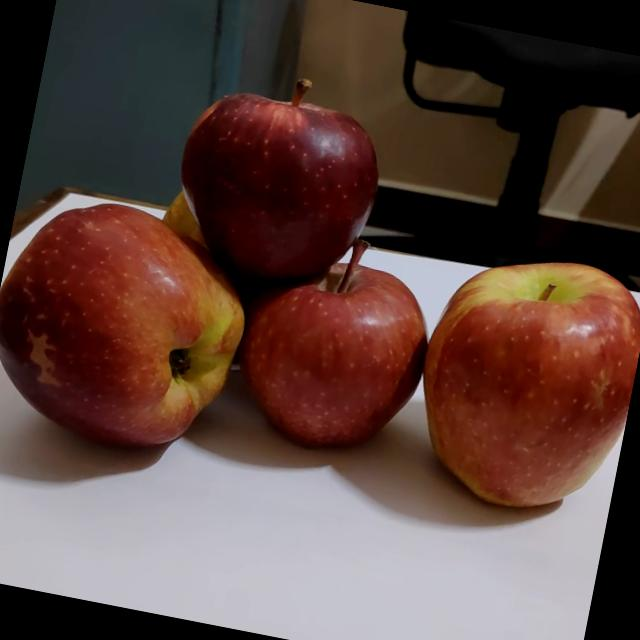apple: (0, 187, 269, 483), (400, 230, 640, 524), (164, 56, 410, 304), (217, 214, 450, 468), (144, 182, 225, 256)
